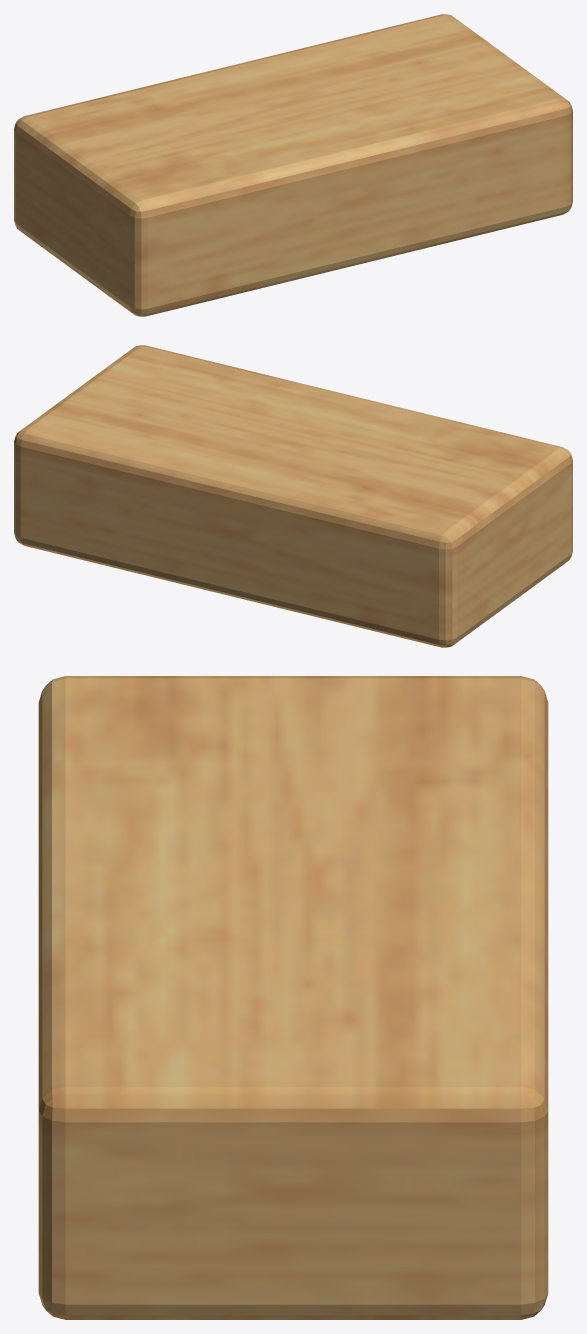
Rendered from PinkRectangle.fbx.
3 views of the same model, one above another, from view 1: azimuth 30°, elevation 25°; view 2: azimuth 150°, elevation 25°; view 3: azimuth 270°, elevation 25° (orthographic). The views are drawn at different scales.
Parts seen in each view (by area): view 1: Cube.014; view 2: Cube.014; view 3: Cube.014.
Boxes of the visible parts, left/top/right/bottom form: Cube.014: left=14, top=14, right=572, bottom=316; Cube.014: left=14, top=345, right=572, bottom=647; Cube.014: left=38, top=676, right=548, bottom=1319.
Bounding box in the file's own units: 800 × 200 × 400.
